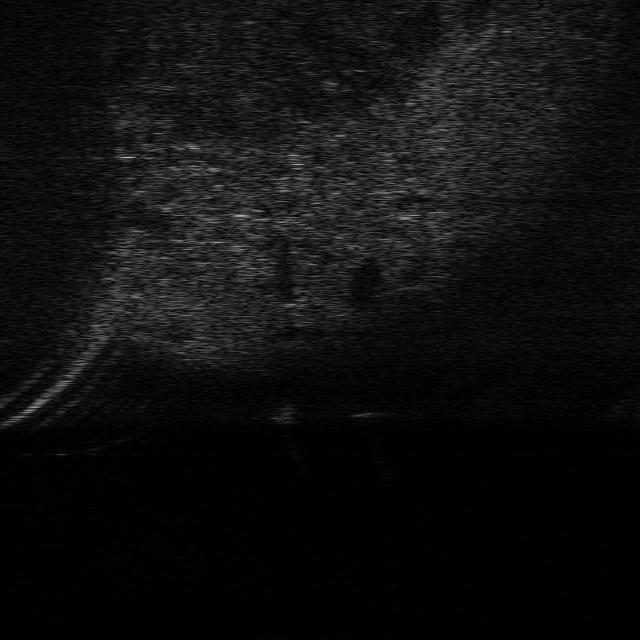cube: (347, 399, 385, 421)
cylinder: (268, 397, 298, 427)
